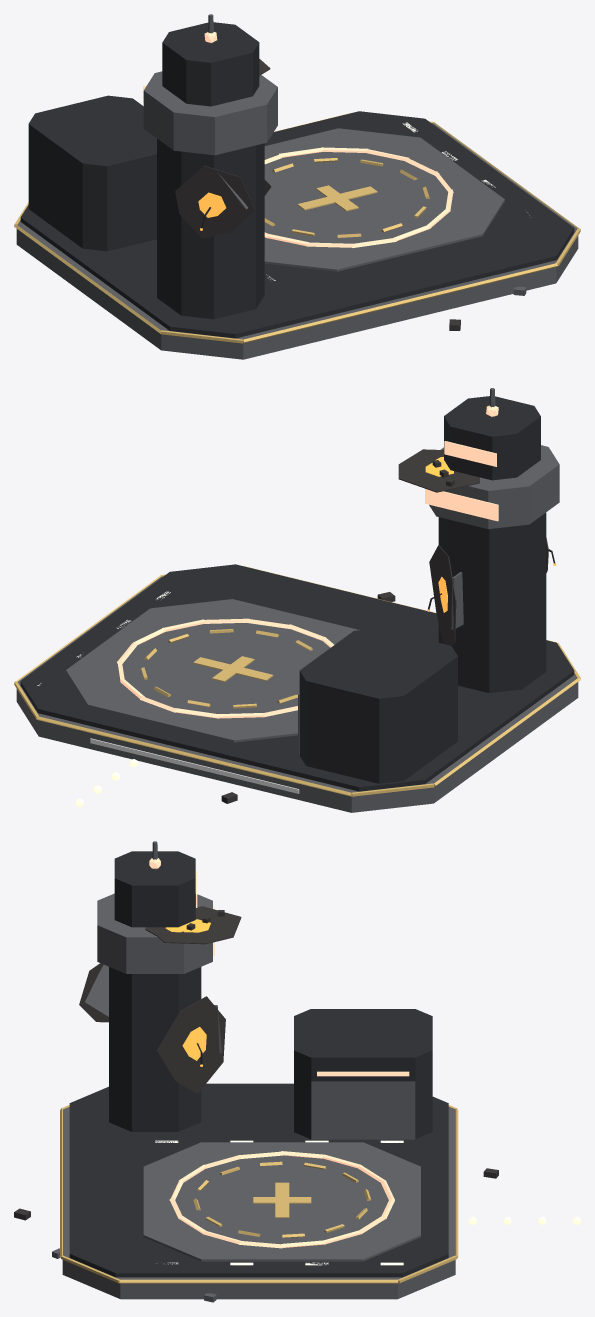
Rendered from Aegis_Airfield.fbx.
3 renders of one model, top to bottom at view 1: azimuth 30°, elevation 25°; view 2: azimuth 150°, elevation 25°; view 3: azimuth 270°, elevation 25°, orthographic. The views are drawn at different scales.
Parts seen in each view (by area): view 1: AF_PlinthTop, AF_Pad, AF2_Hangar, AF_Tower, AF_Plinth, AF_TowerCab, AF3_TowerTop, Aegis_Airfield_DmgScorch1, AF_PadRing, AF_PlinthTrim0, AF_PadDash, AF_PlinthTrim6 (+2 smaller); view 2: AF_PlinthTop, AF_Pad, AF2_Hangar, AF_Tower, AF_Plinth, AF3_TowerTop, AF_TowerCab, AF_PadRing, Aegis_Airfield_DmgScorch3, Aegis_Airfield_DmgScorch0, AF_PlinthTrim4, AF_TowerGlass (+6 smaller); view 3: AF_PlinthTop, AF_Pad, AF_Tower, AF2_Hangar, AF_Plinth, AF2_HangarDoor, AF3_TowerTop, AF_TowerCab, Aegis_Airfield_DmgScorch0, AF_PadRing, Aegis_Airfield_DmgScorch3, AF_PlinthTrim2 (+4 smaller).
Boxes of the visible parts, x1,y1,x2,y2 form: AF_PlinthTop: (20,111,574,338); AF_Pad: (264,128,504,271); AF2_Hangar: (28,95,156,251); AF_Tower: (157,138,264,319); AF_Plinth: (16,123,578,359); AF_TowerCab: (143,71,277,155); AF3_TowerTop: (162,22,259,106); Aegis_Airfield_DmgScorch1: (175,165,254,238); AF_PadRing: (264,147,453,247); AF_PlinthTrim0: (243,263,557,343); AF_PadDash: (264,158,429,237); AF_PlinthTrim6: (14,224,160,333); AF_PlinthTop: (20,564,574,791); AF_Pad: (66,599,359,742); AF2_Hangar: (299,628,457,783); AF_Tower: (438,512,546,693); AF_Plinth: (16,576,578,812); AF3_TowerTop: (444,396,540,480); AF_TowerCab: (429,445,559,529); AF_PadRing: (117,618,334,718); Aegis_Airfield_DmgScorch3: (398,449,479,492); Aegis_Airfield_DmgScorch0: (429,545,456,645); AF_PlinthTrim4: (37,716,351,796); AF_TowerGlass: (425,488,498,521); AF_PlinthTop: (69,1083,448,1277); AF_Pad: (143,1142,420,1261); AF_Tower: (109,967,201,1131); AF2_Hangar: (294,1009,432,1138); AF_Plinth: (62,1107,455,1299); AF2_HangarDoor: (311,1081,415,1139); AF3_TowerTop: (114,851,195,927); AF_TowerCab: (97,893,212,973); Aegis_Airfield_DmgScorch0: (157,996,225,1093); AF_PadRing: (169,1151,394,1248); Aegis_Airfield_DmgScorch3: (148,906,241,944); AF_PlinthTrim2: (120,1279,398,1283).
Size of the model in its own units: 4.1 by 2.8 by 4.9.
